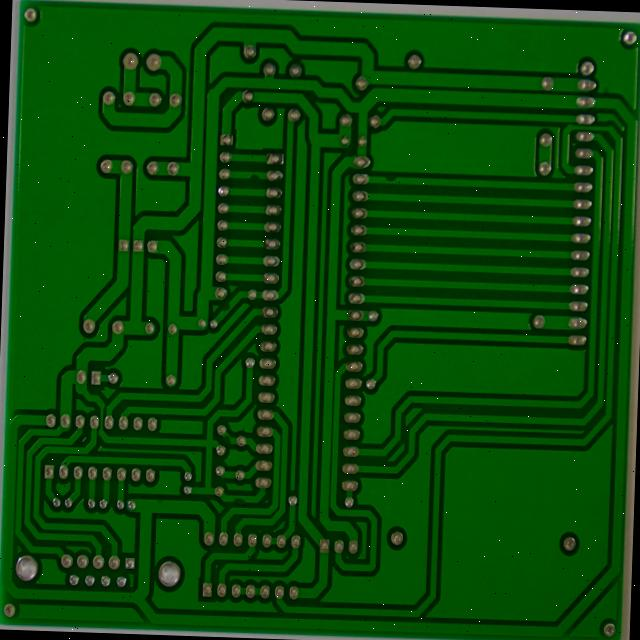mouse_bite: (347, 197, 369, 215), (165, 346, 182, 367), (179, 573, 198, 591), (196, 196, 216, 213), (168, 505, 182, 520)
